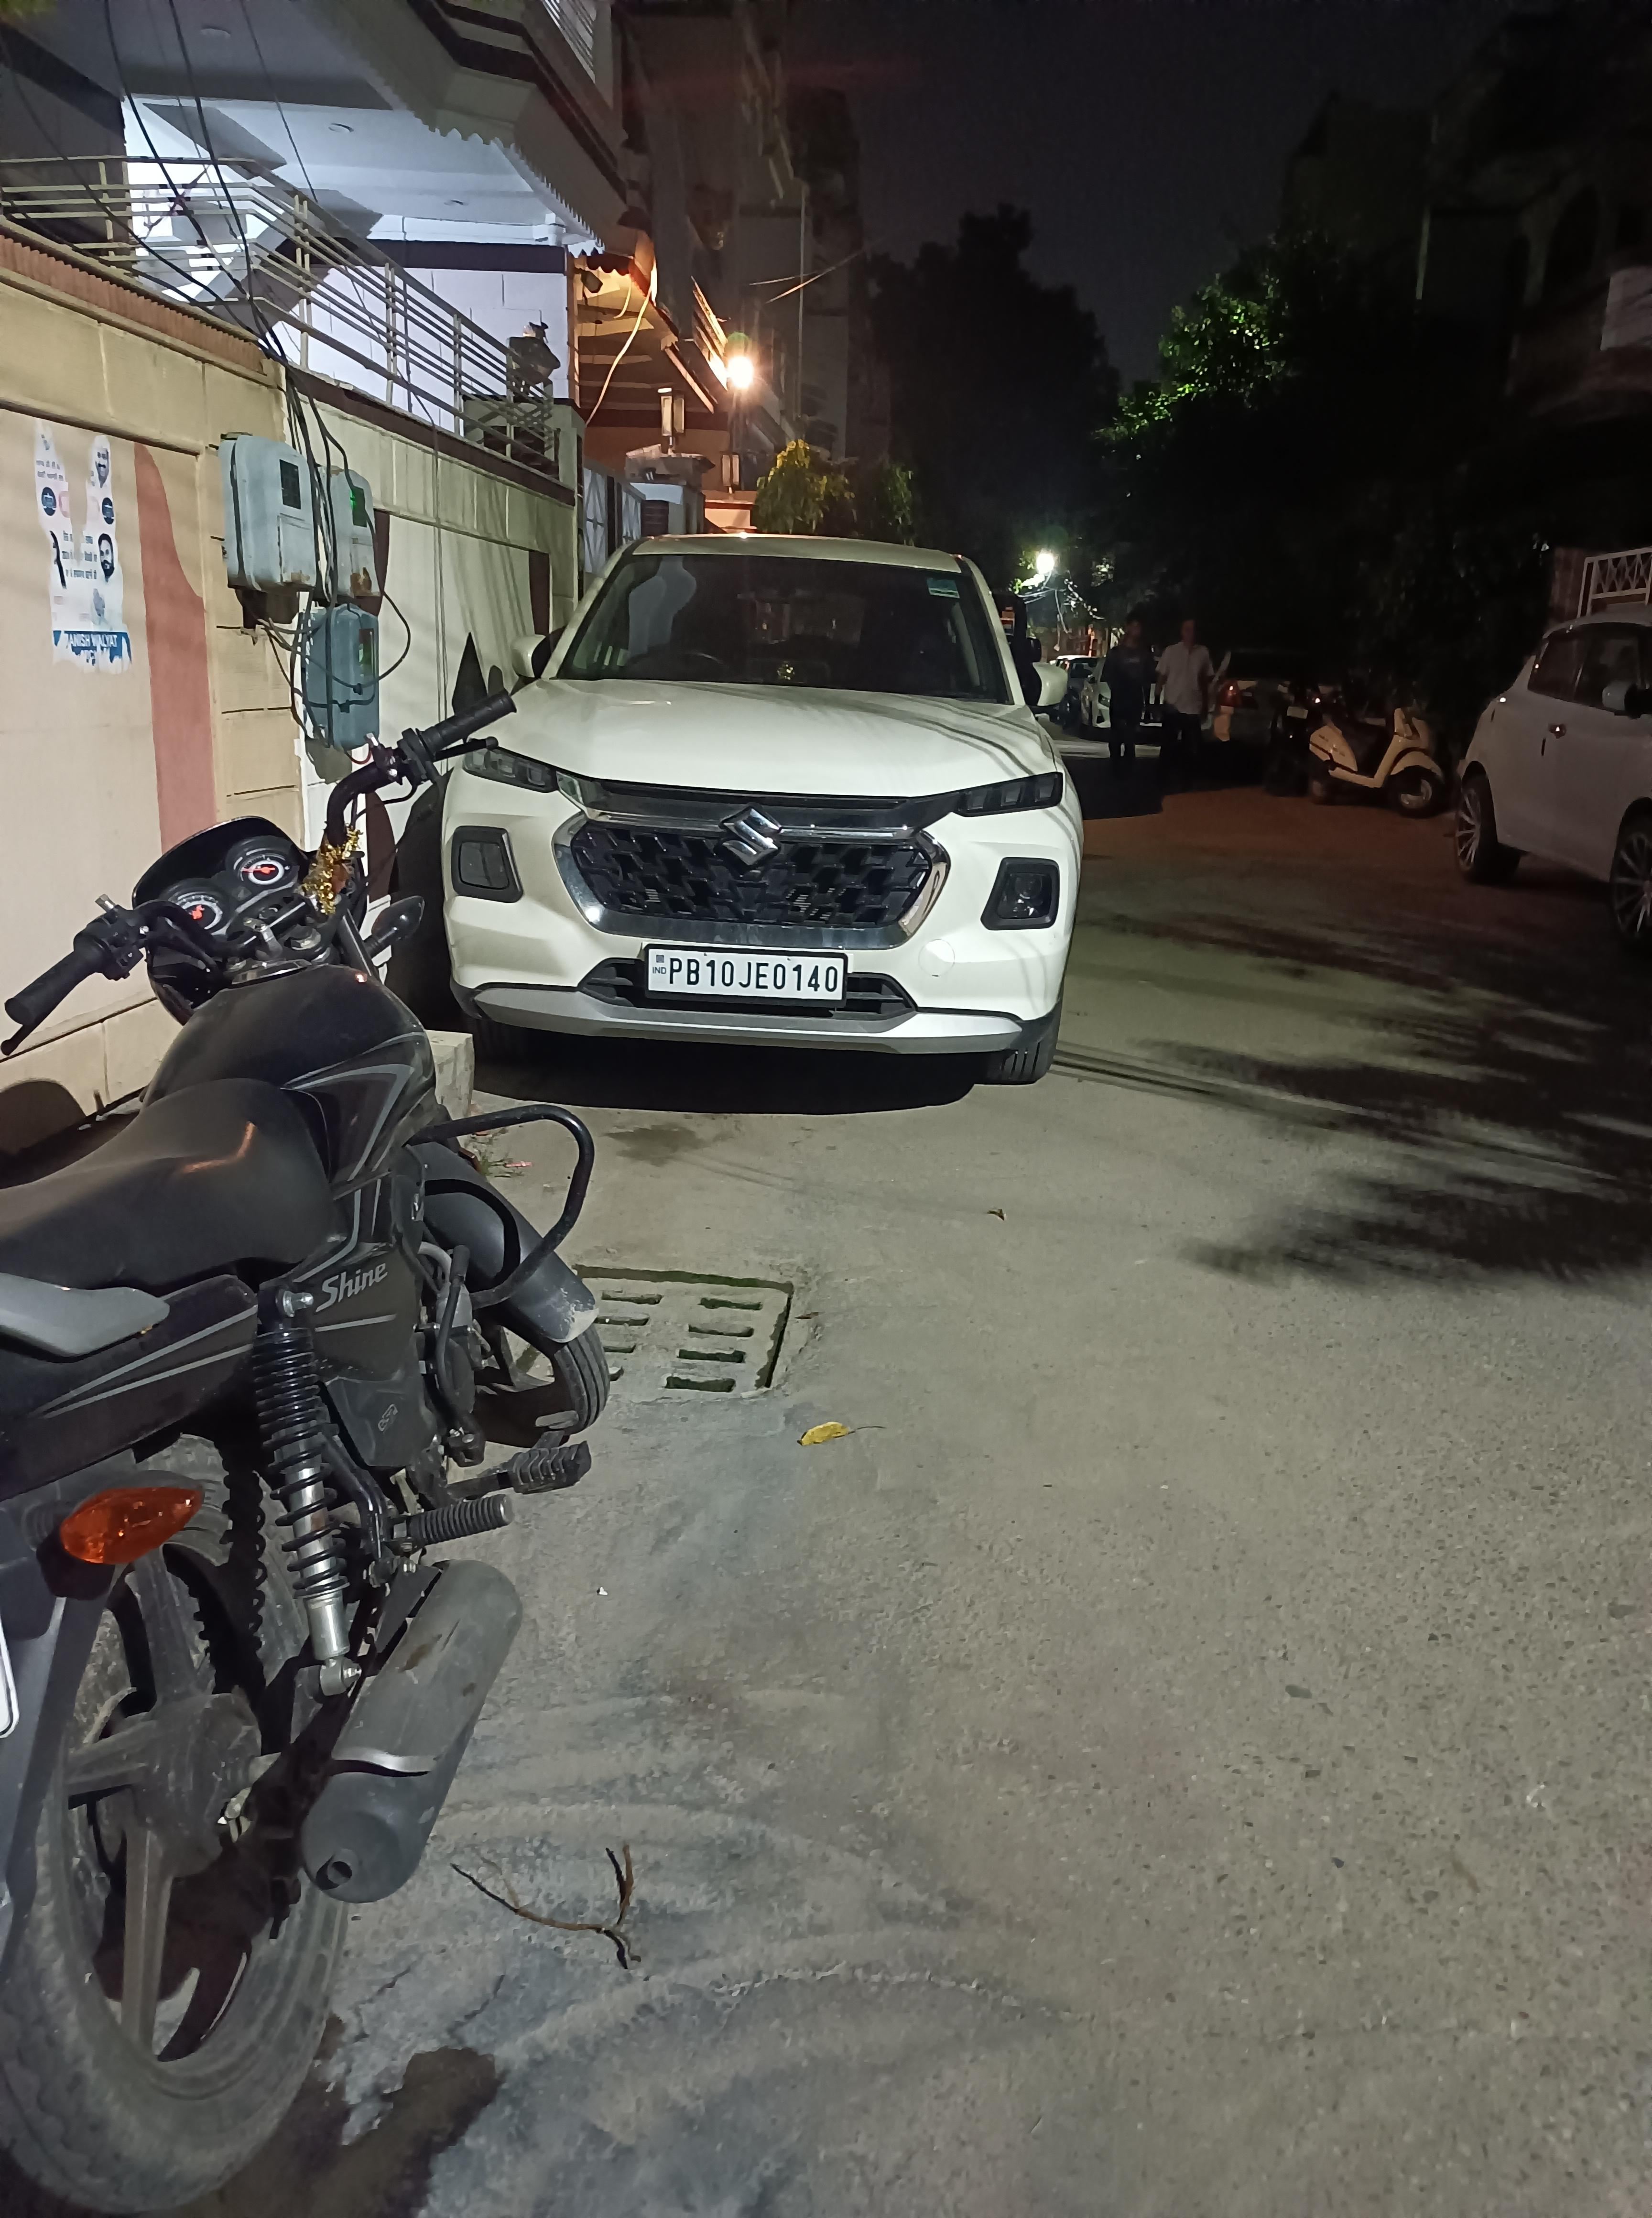license_plate: (643, 947, 843, 1003)
